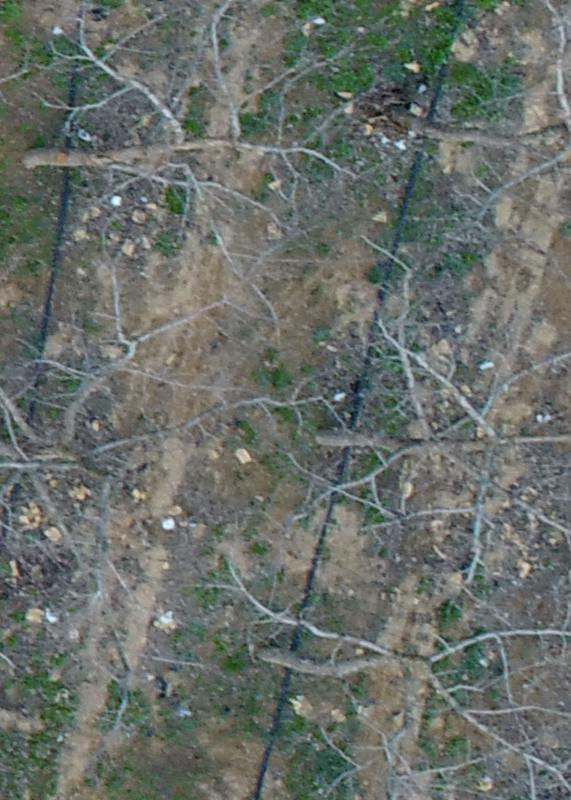apple: (10, 266, 306, 688), (284, 226, 561, 610), (10, 10, 364, 260), (200, 550, 561, 790)
